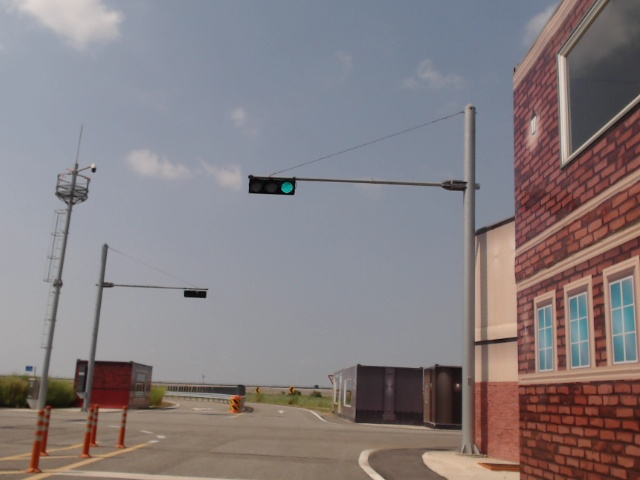green_3: (248, 176, 296, 196)
